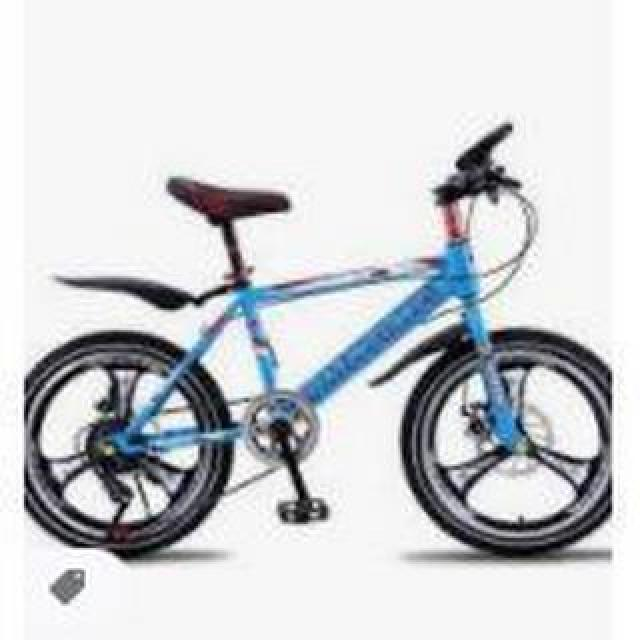Person: (8, 122, 626, 570)
